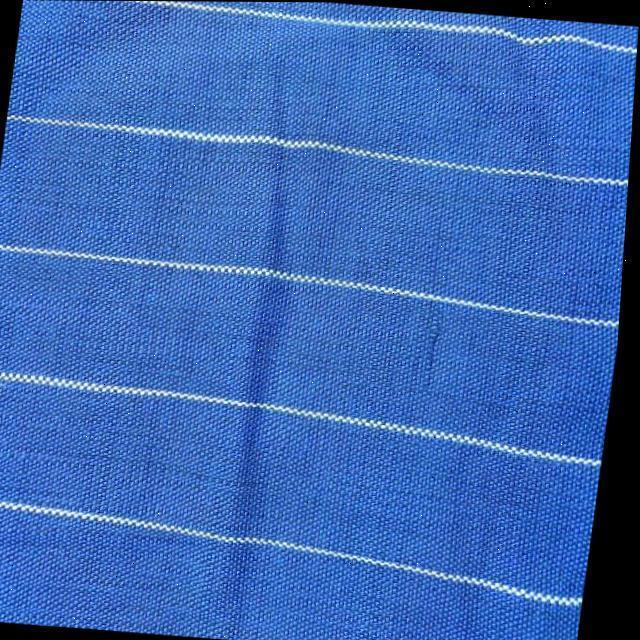pulled_or_thick_thread: (427, 304, 445, 392)
